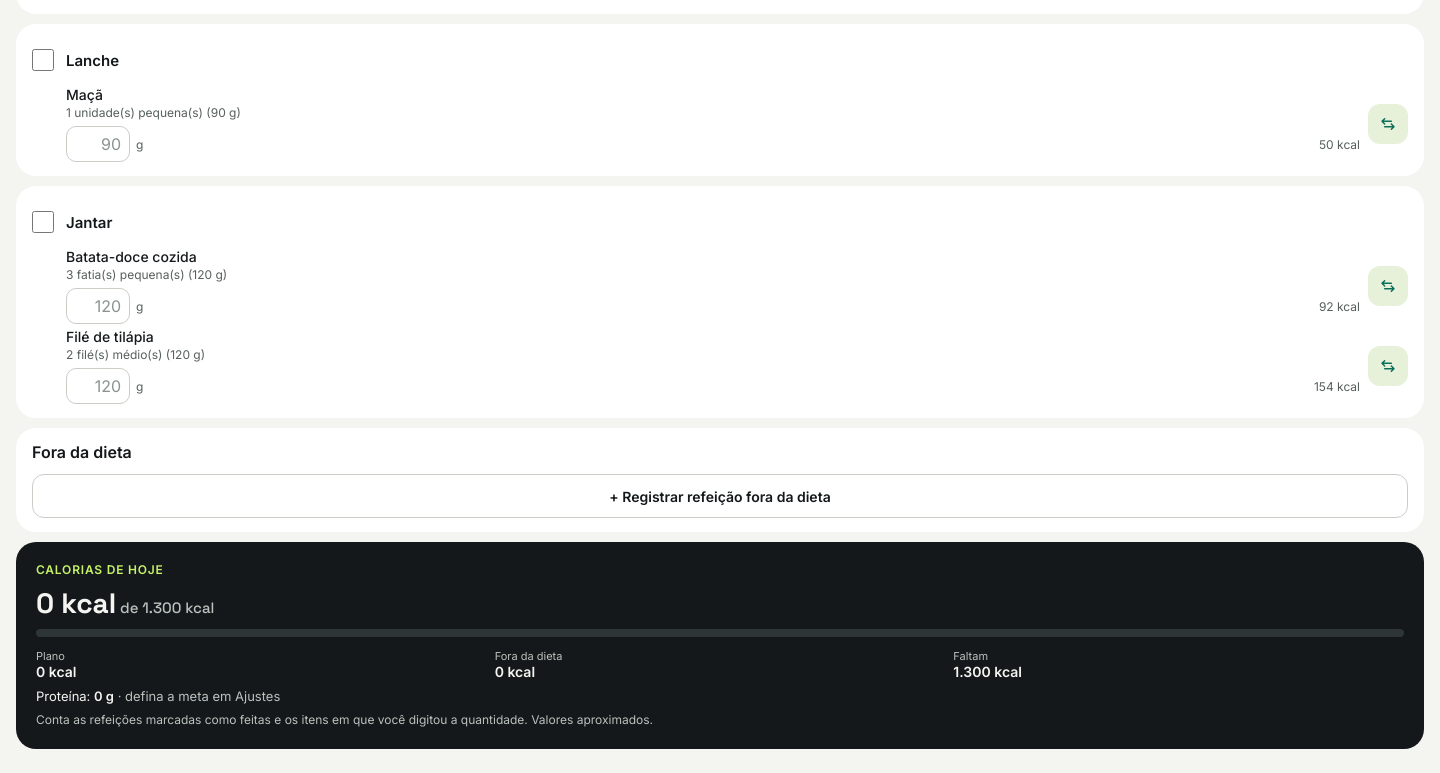
it: Calorias do dia › registra um alimento da lista da dieta com a porção sugerida ou outra quantidade
(page scrolled)
Click the button "+ Registrar refeição fora da dieta" at (720, 496), box [32,474,1408,518]
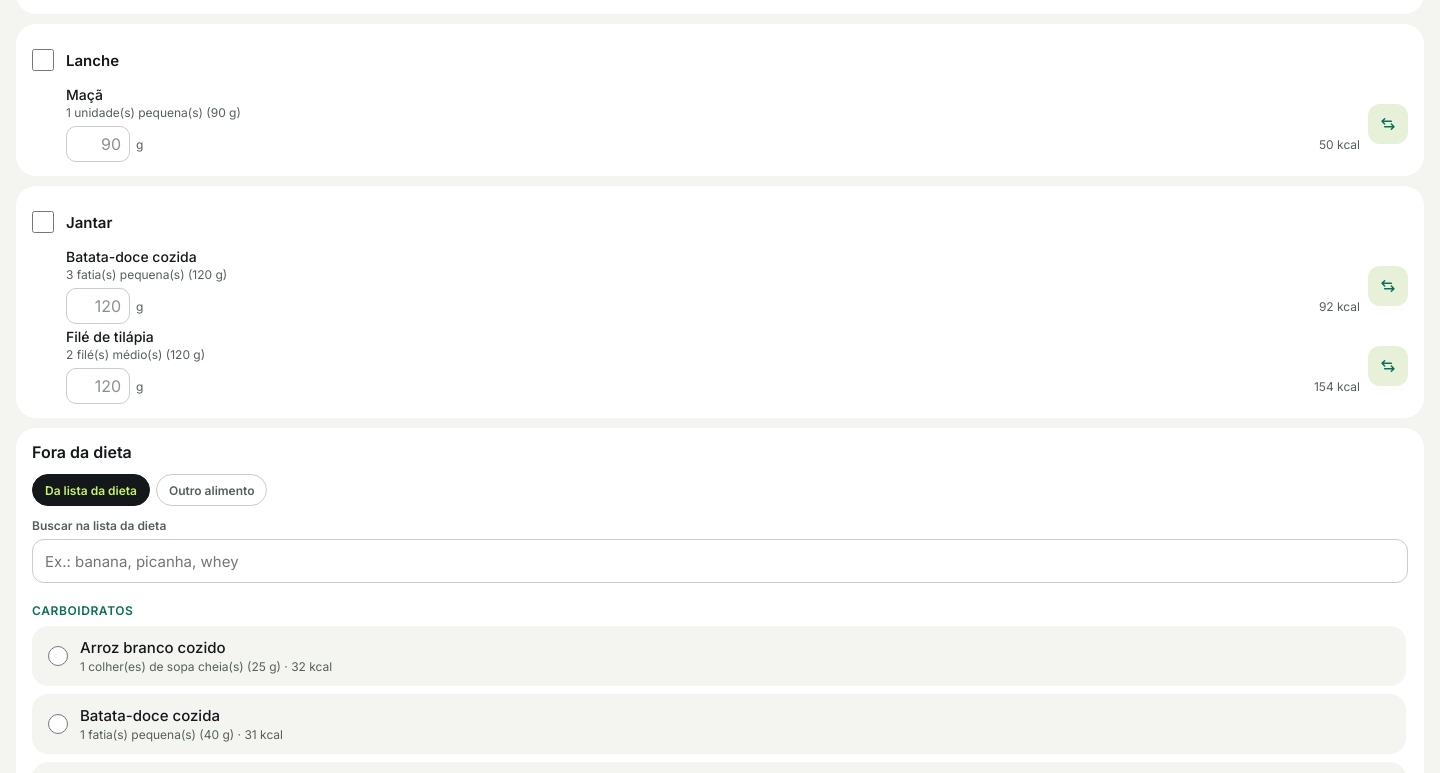
Type "banana" into the search field labelled "Buscar na lista da dieta" at (720, 561), box [32,539,1408,583]
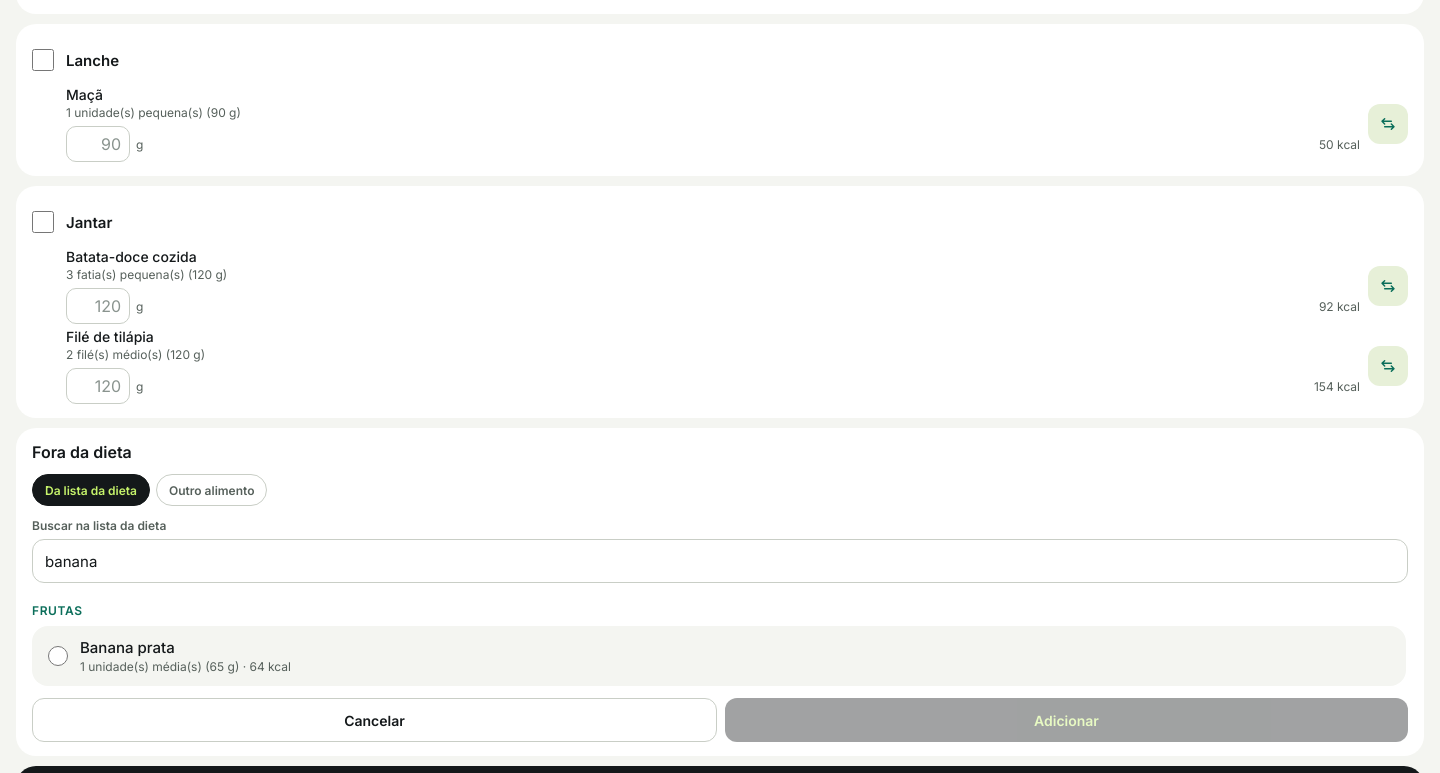
Click the radio button labelled "Banana prata 1 unidade(s) média(s) (65 g) · 64 kcal" at (58, 656), box [48,646,68,666]
(page scrolled)
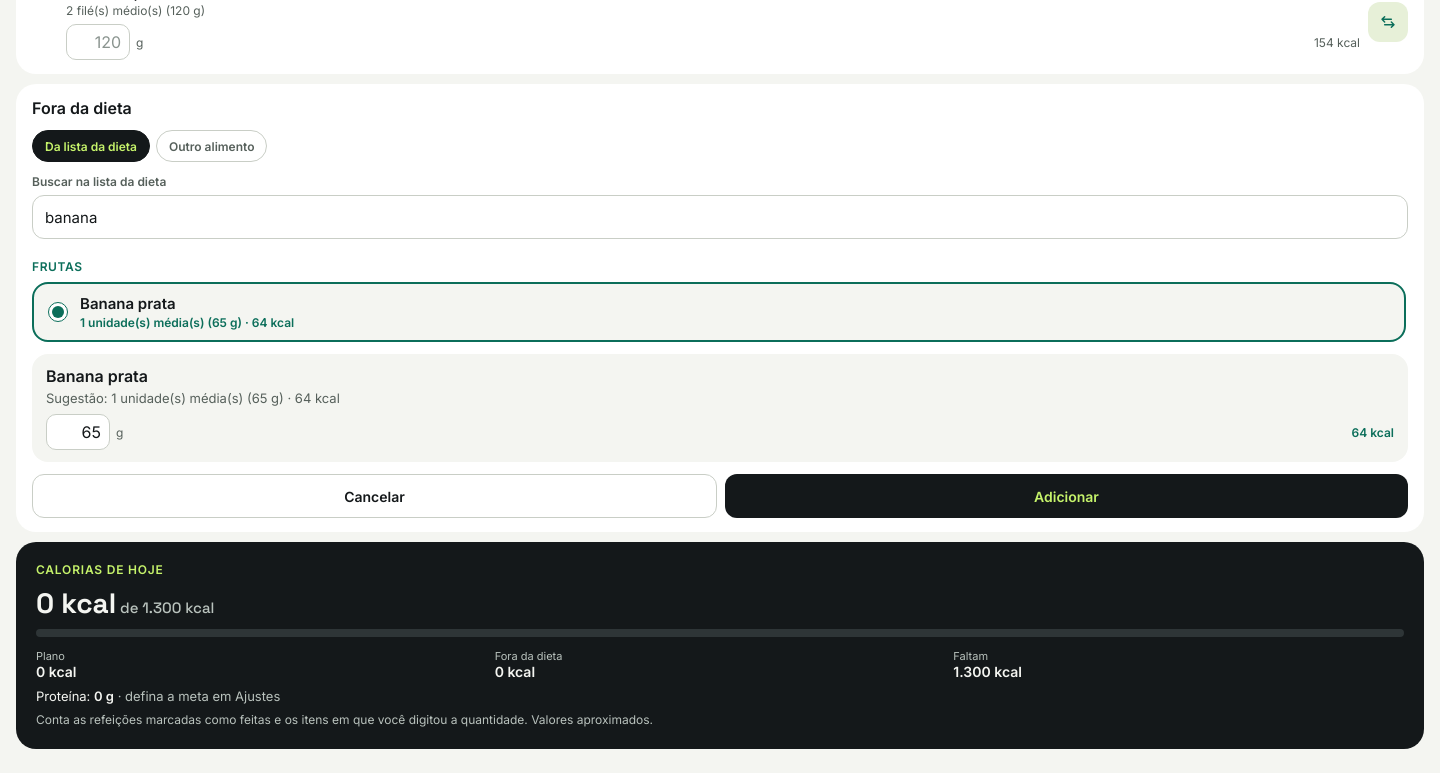
expect the field named "Quantidade de banana prata fora da dieta, em g" holds "65": met
Replace the text in the field named "Quantidade de banana prata fora da dieta, em g" with "130" at (78, 432), box [46,414,110,450]
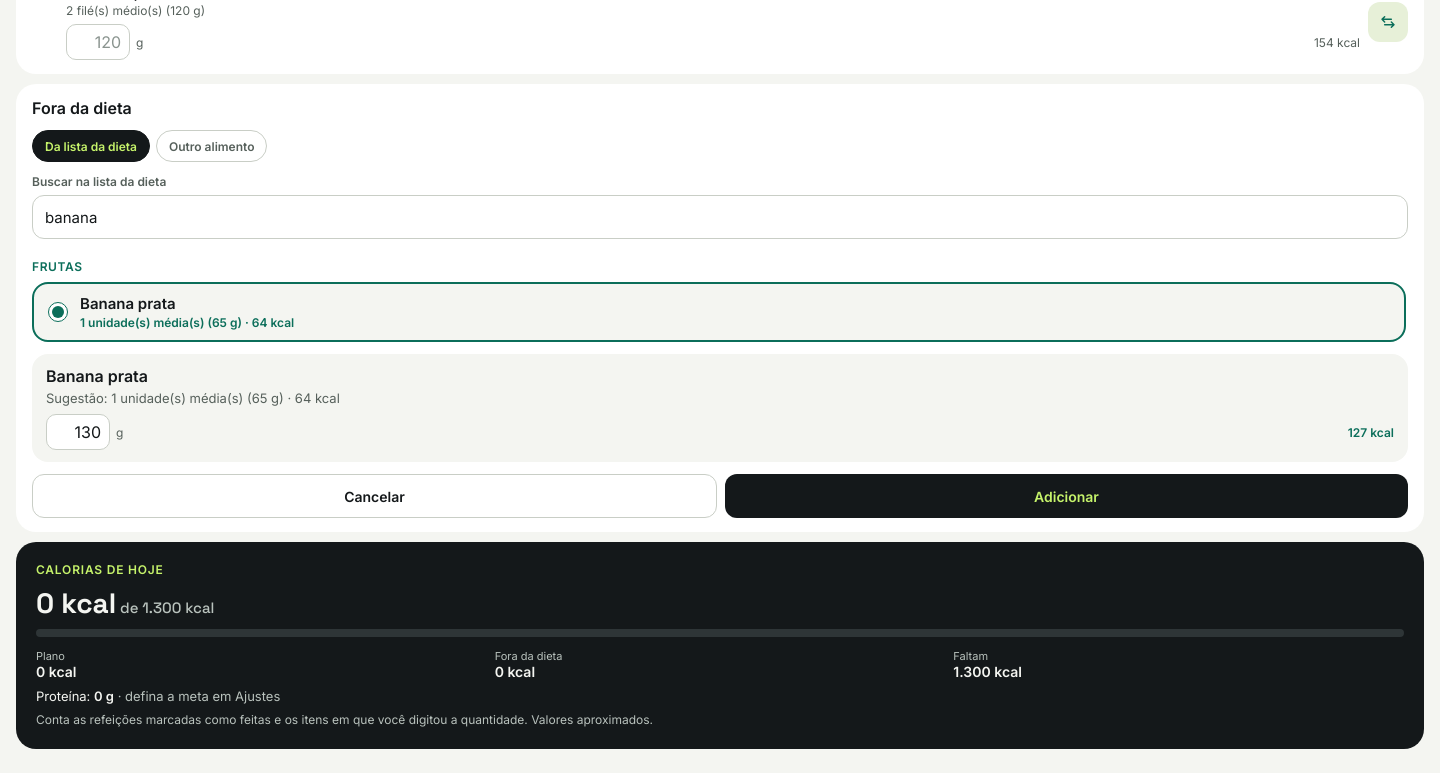
Click the button "Adicionar" at (1066, 496), box [725,474,1408,518]
(page scrolled)
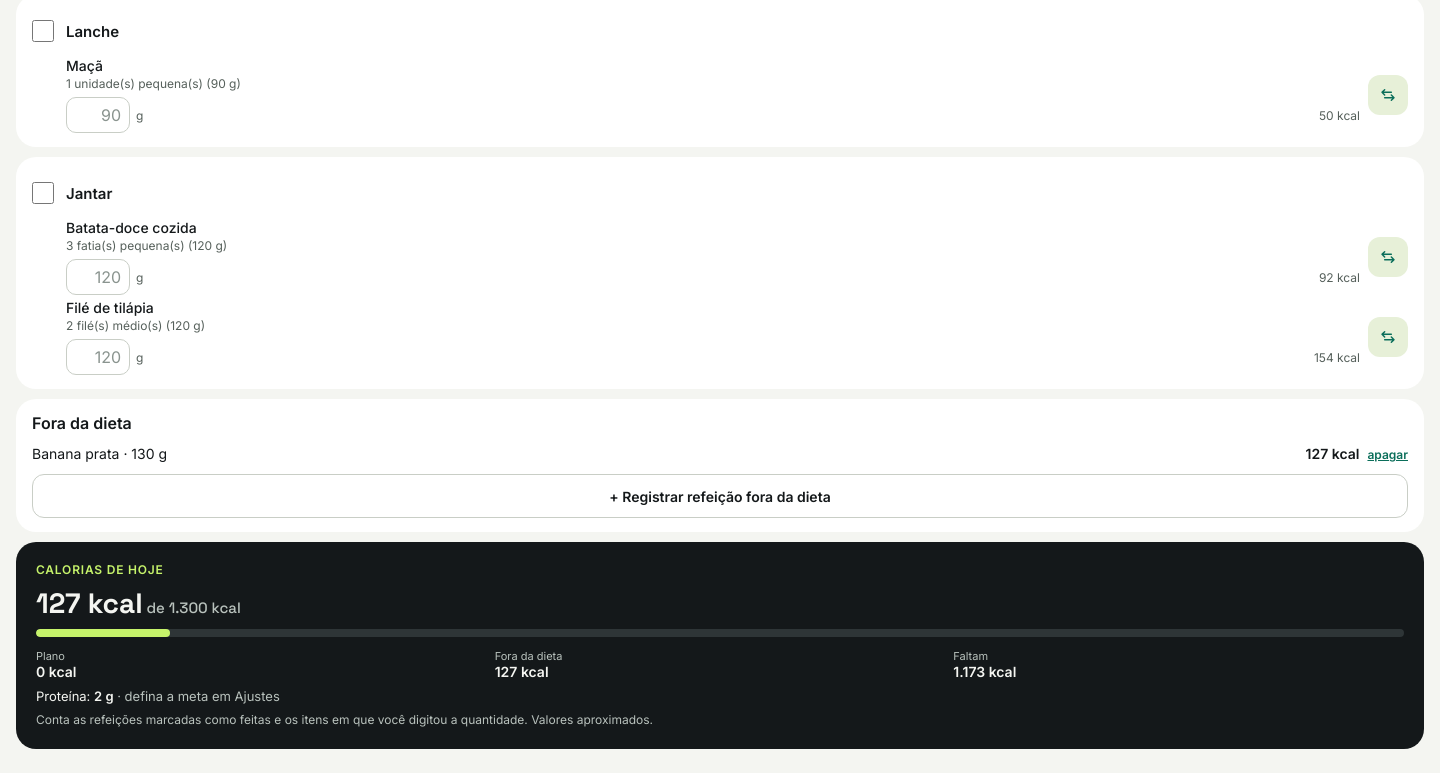
expect the text "Banana prata · 130 g" is shown: met, box [32,445,167,462]
